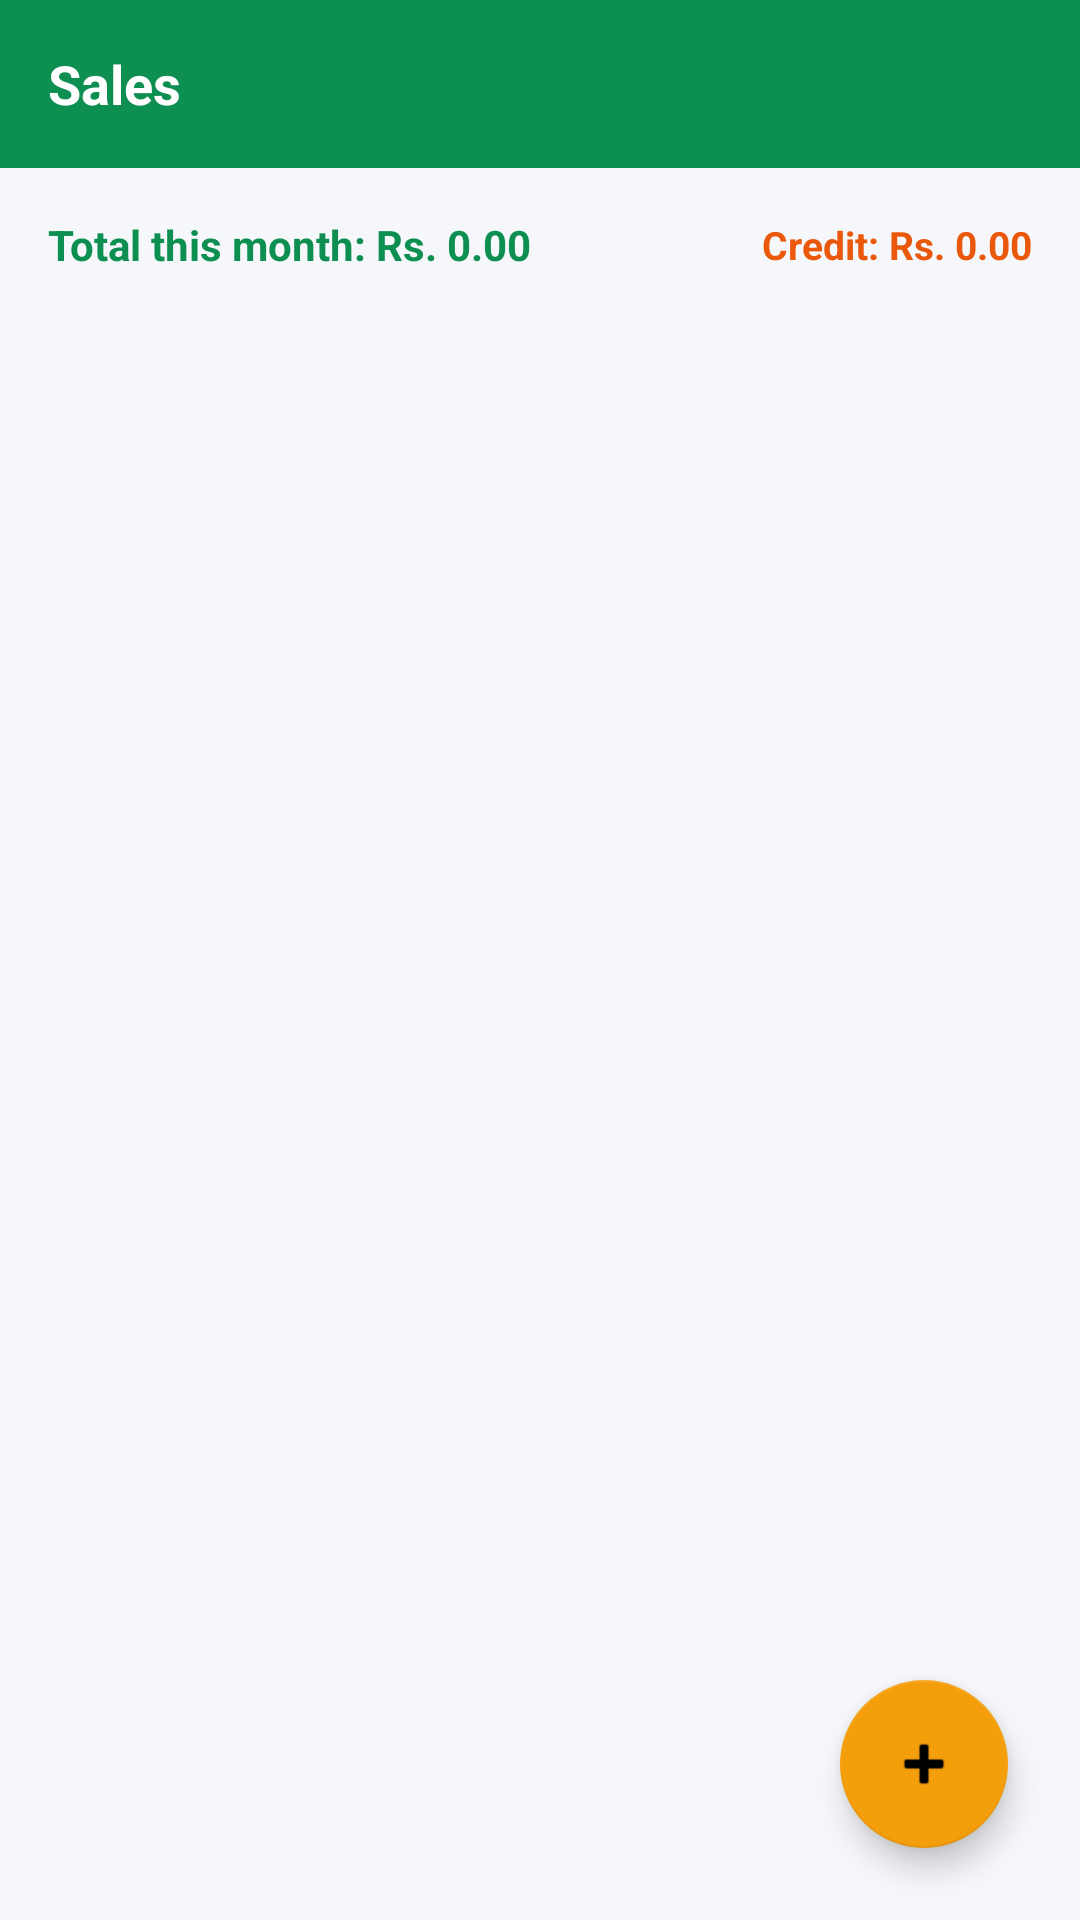

Locate icon controls on the screen. Image size 1080 x 1920, boxes as (x1, y1, x2, y2).
Add Sale: (840, 1680, 1008, 1848)
